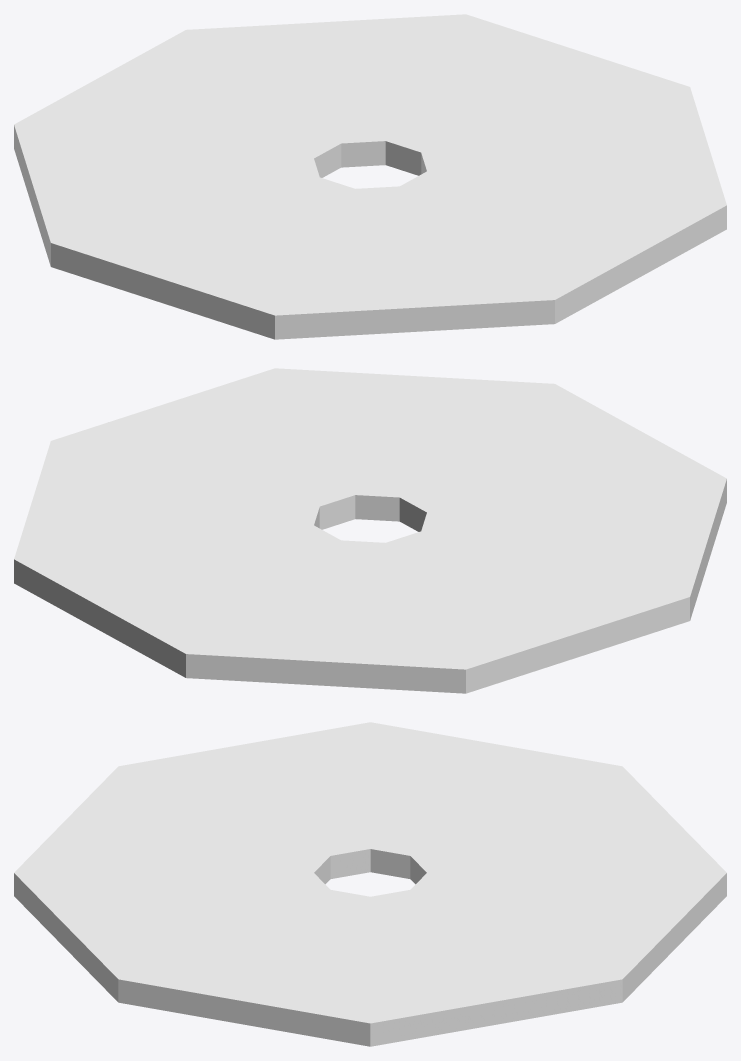
Rendered from botCDTextures.fbx.
The picture shows the model from 3 angles, top to bottom: view 1: azimuth 30°, elevation 25°; view 2: azimuth 150°, elevation 25°; view 3: azimuth 270°, elevation 25°; orthographic projection. The views are drawn at different scales.
Visible parts, largest first — view 1: CD; view 2: CD; view 3: CD.
Boxes of the visible parts, x1,y1,x2,y2 form: CD: (14, 14, 726, 339); CD: (14, 368, 726, 693); CD: (14, 722, 726, 1046).
Bounding box in the file's own units: 18 × 0.6483 × 18.
